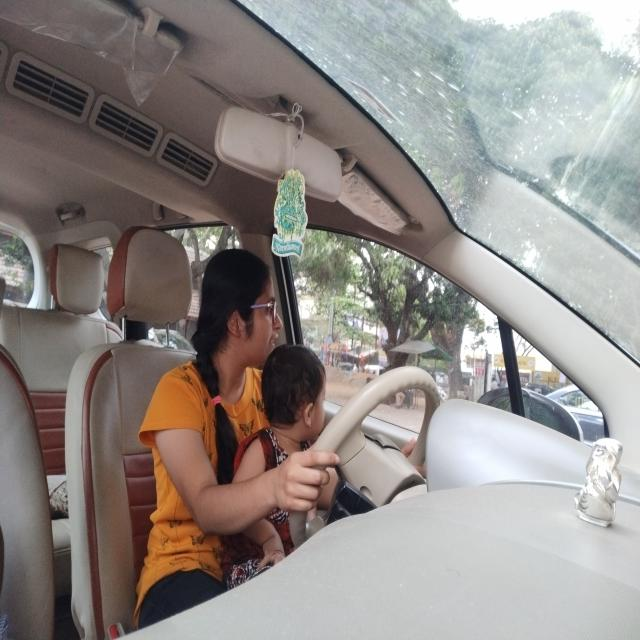child: (262, 332, 328, 450)
person: (188, 238, 281, 377)
